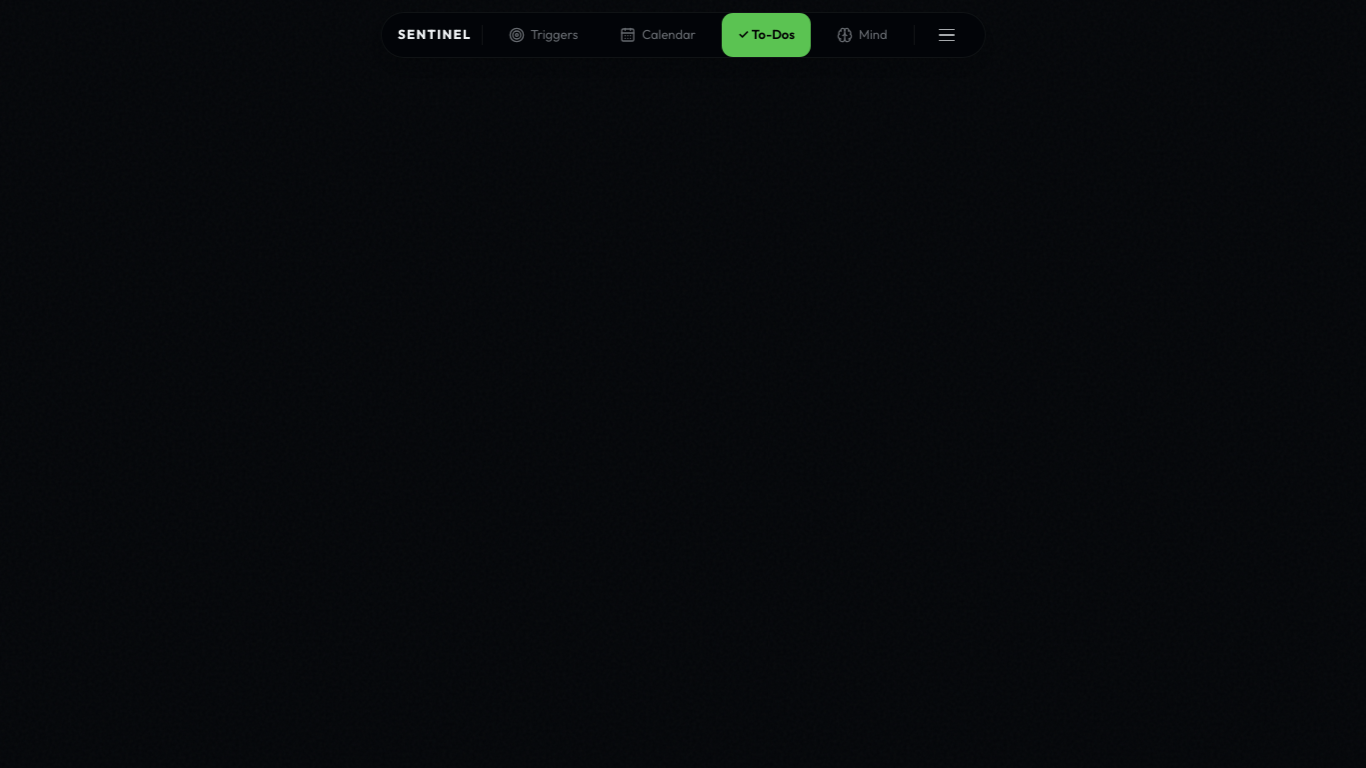
Scenario: AppHeader › opens an empty subfeature menu from the hamburger
Click the button named "open menu" at (946, 35), box [924,13,968,57]
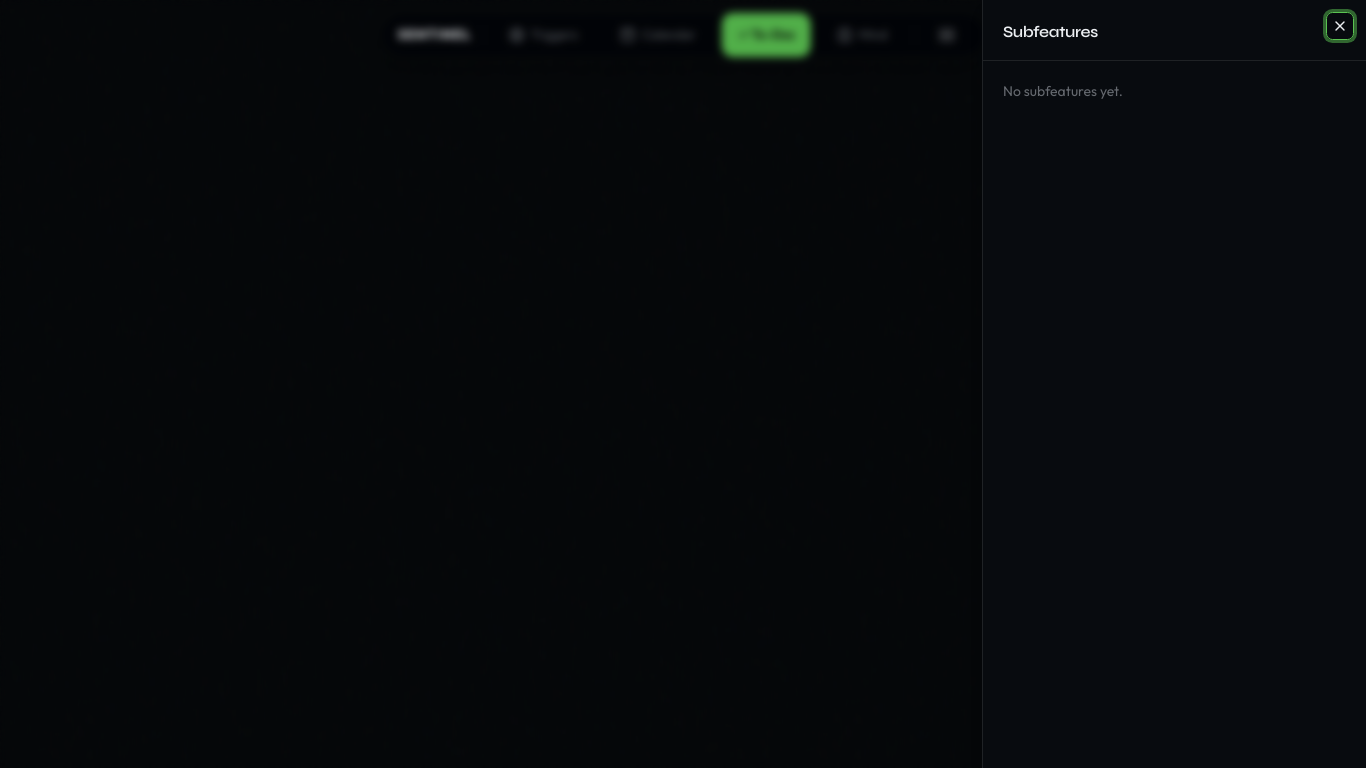
Check: the heading "Subfeatures" is shown, box [1003,22,1098,41]
Check: the text "No subfeatures yet." is shown, box [1003,82,1123,100]
